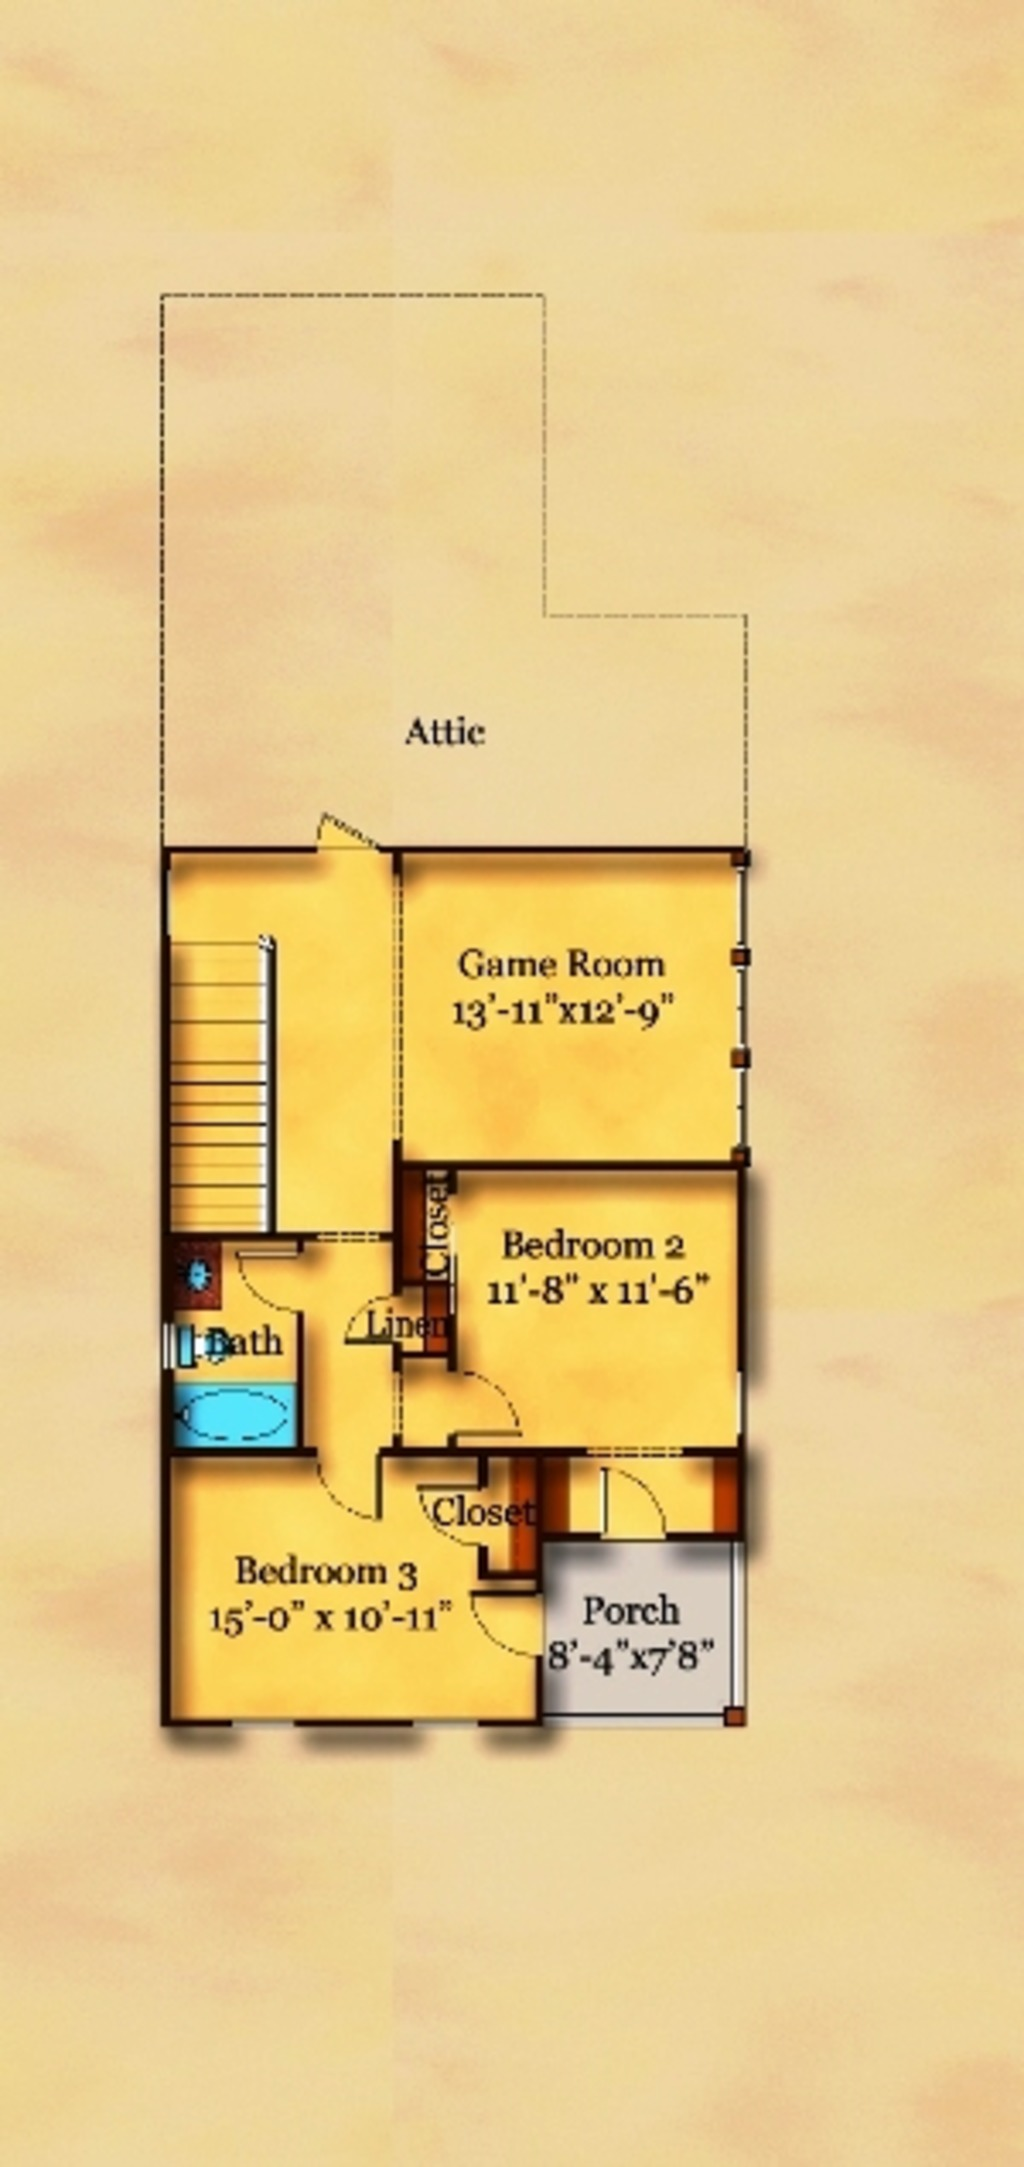door: (445, 1359, 536, 1455), (459, 1575, 549, 1665), (587, 1455, 673, 1533), (329, 1448, 397, 1529), (238, 1234, 303, 1316)
stairs: (169, 930, 290, 1240)
